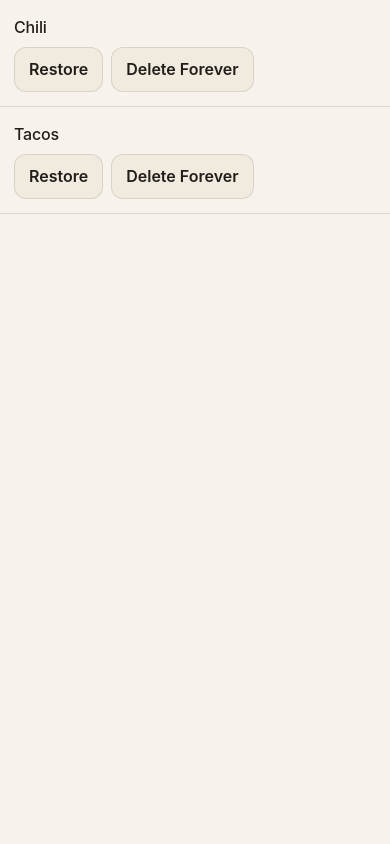
Test: restore › restores a recipe and removes it from the list, without confirmation
Check: the text "Chili" is shown, box [14,17,47,37]
Click the button with test id "recently-deleted-restore-r1".
click(59, 70)  # box [14,47,103,92]
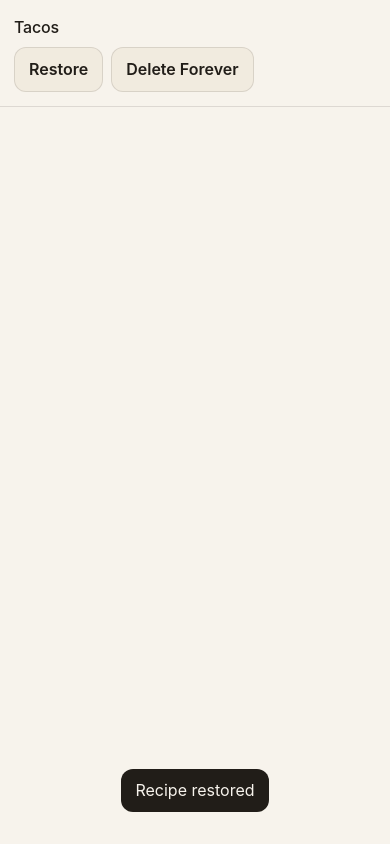
Check: the text "Tacos" is shown, box [14,17,59,37]
Check: the text "Recipe restored" is shown, box [135,777,254,804]
Check: the text "Chili" is gone
